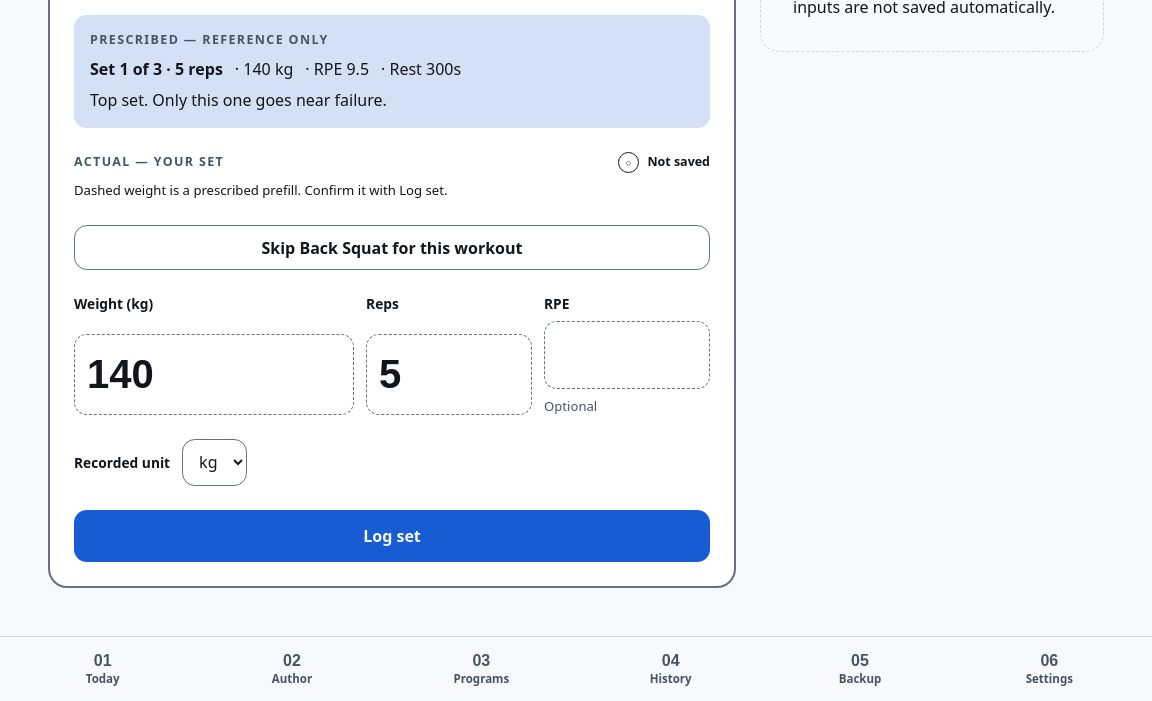
Test: shows each current set's own prescription and displays a range without judging it
(page scrolled)
Expected: the text "Set 1 of 3 · 5 reps" is shown, 90,58 -> 223,80
Expected: the text "· 140 kg" is shown, 235,58 -> 293,80
Step 1. Click the button "Log set" → coordinates (392, 536), box 74,510 -> 710,562
(page scrolled)
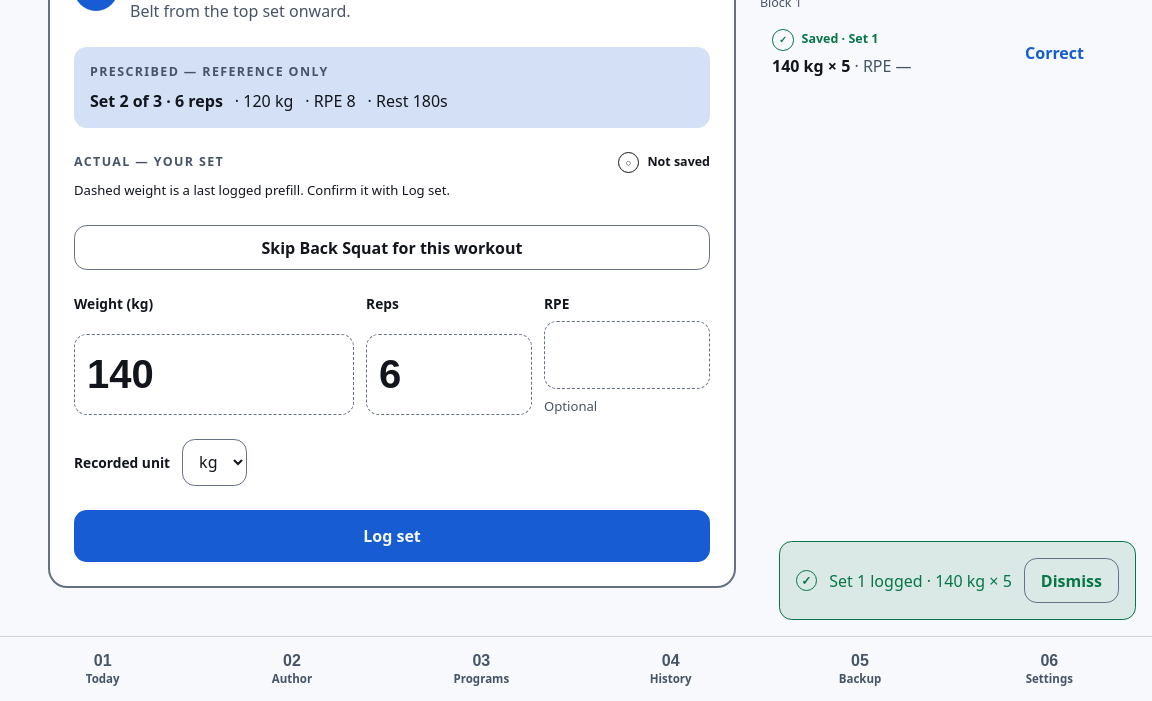
Expected: the text "Set 2 of 3 · 6 reps" is shown, 90,90 -> 223,112
Expected: the text "· 120 kg" is shown, 235,90 -> 293,112
Expected: the text "· RPE 8" is shown, 305,90 -> 356,112
Step 2. Click the button "Log set" → coordinates (392, 536), box 74,510 -> 710,562
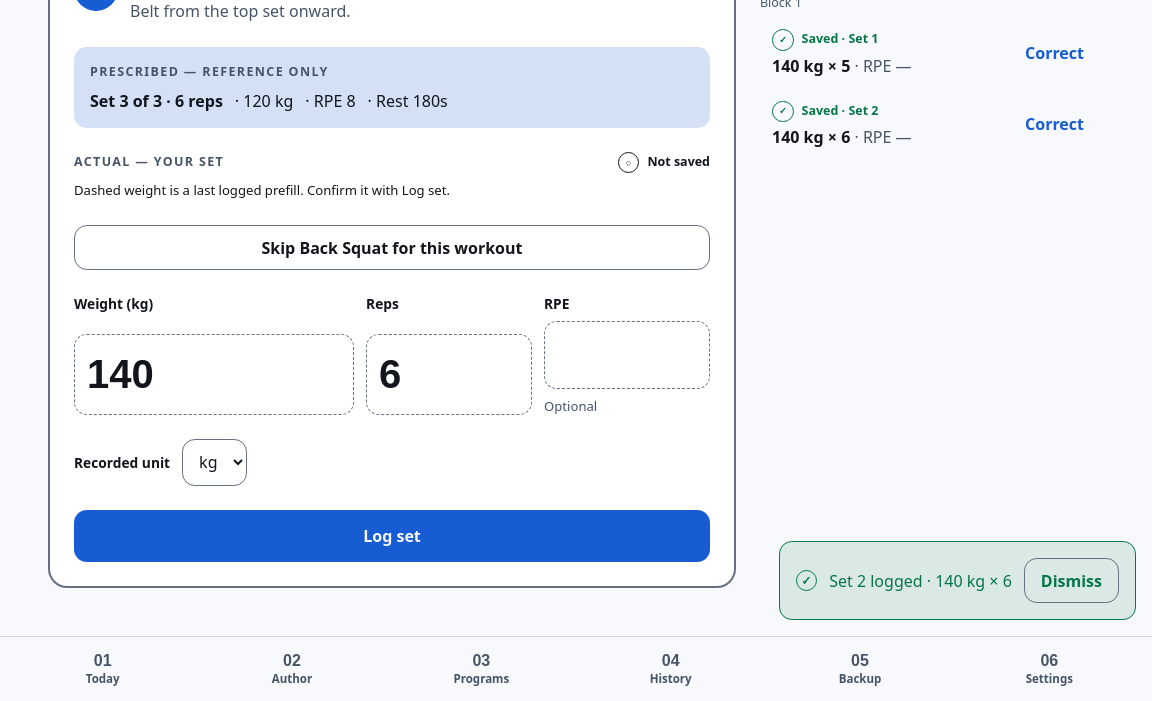
Step 3. Click the button "Log set" → coordinates (392, 536), box 74,510 -> 710,562
(page scrolled)
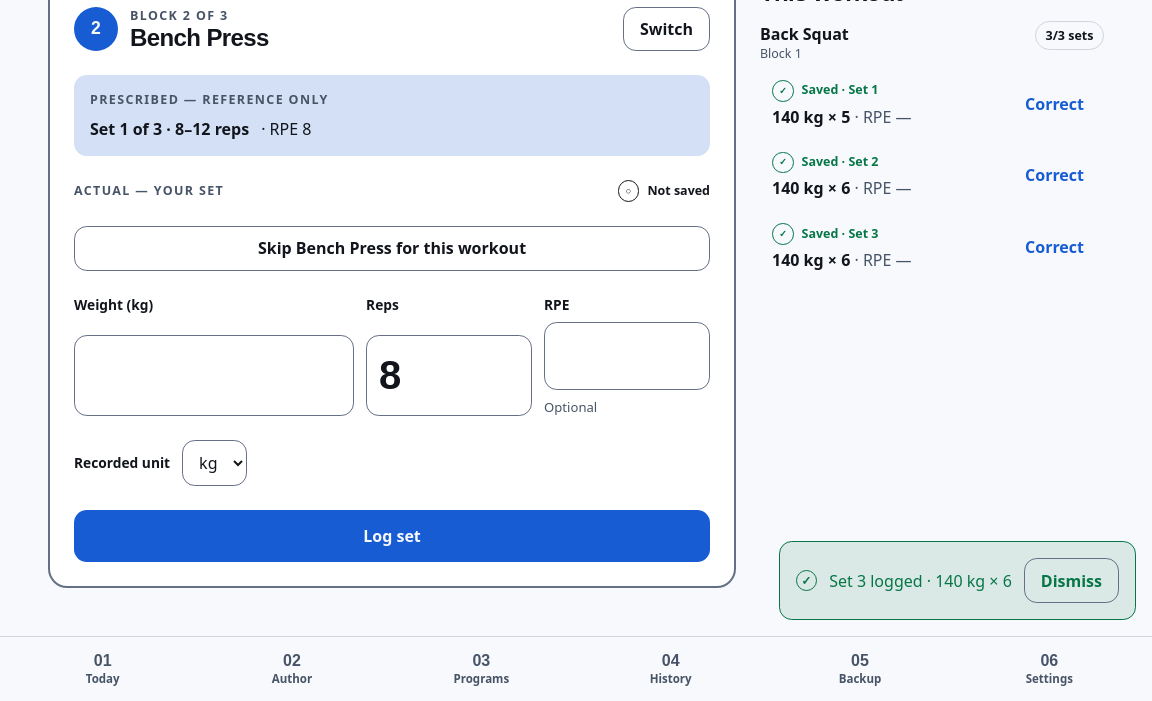
Expected: the heading "Bench Press" is shown, 130,26 -> 269,50
Expected: the text "Set 1 of 3 · 8–12 reps" is shown, 90,118 -> 249,140
